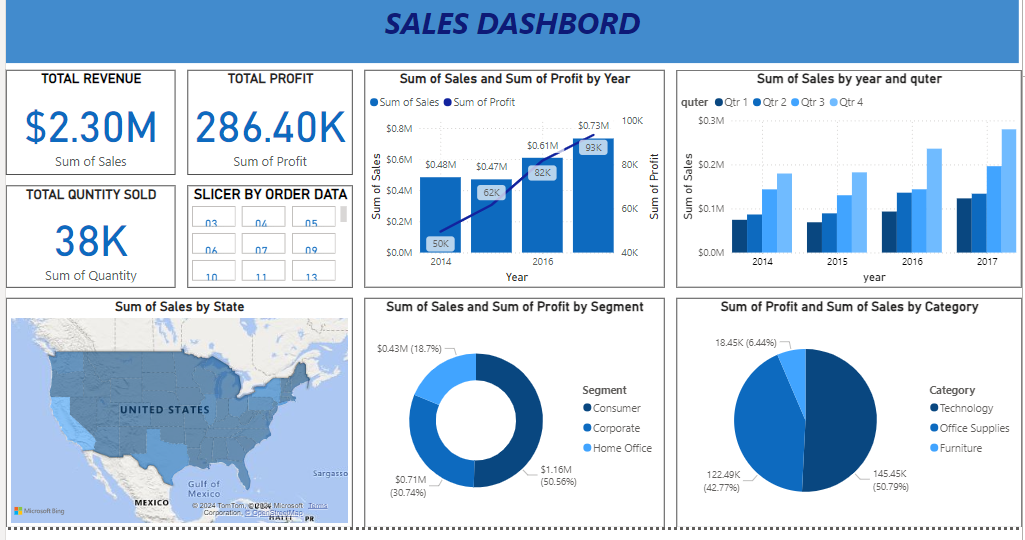

This screenshot's page, from the dashboard's own definition file:
{"tool":"powerbi","page":{"name":"Page 1","canvas":[1280,720],"ordinal":0},"visuals":[{"type":"card","title":"TOTAL REVENUE","fields":{"Values":["Sum(Orders.Sales)"]},"box":[0,143.6,213.5,132.3],"z":0},{"type":"card","title":"TOTAL QUNTITY SOLD","fields":{"Values":["Sum(Orders.Quantity)"]},"box":[0,289.1,213.5,128.5],"z":1000},{"type":"card","title":"TOTAL PROFIT","fields":{"Values":["Sum(Orders.Profit)"]},"box":[228.7,143.6,207.9,132.3],"z":2000},{"type":"advancedSlicerVisual","title":"SLICER BY ORDER DATA","fields":{"Values":["Orders.Order Date"]},"box":[228.7,289.1,207.9,128.5],"z":3000},{"type":"lineStackedColumnComboChart","fields":{"Category":["Orders.Order Date.Variation.Date Hierarchy.Year","Orders.Order Date.Variation.Date Hierarchy.Quarter","Orders.Order Date.Variation.Date Hierarchy.Month","Orders.Order Date.Variation.Date Hierarchy.Day"],"Y":["Sum(Orders.Sales)"],"Y2":["Sum(Orders.Profit)"]},"box":[451.7,143.6,378,274],"z":4000},{"type":"clusteredColumnChart","fields":{"Category":["Orders.year"],"Series":["Orders.quter"],"Y":["Sum(Orders.Sales)"]},"box":[844.7,143.6,434.6,274],"z":5000},{"type":"filledMap","fields":{"Category":["Orders.State"]},"box":[0,430.9,436.5,289.1],"z":6000},{"type":"donutChart","fields":{"Category":["Orders.Segment"],"Y":["Sum(Orders.Sales)"]},"box":[451.7,430.9,378,289.1],"z":7000},{"type":"pieChart","fields":{"Category":["Orders.Category"],"Y":["Sum(Orders.Profit)"]},"box":[845,431,435,289],"z":8000},{"type":"textbox","box":[0,52.9,1276,82],"z":9000}]}

Visuals, with their boxes in screenshot pixels (x1, y1, x2, y2):
"TOTAL REVENUE" card: 3 77 172 182
"TOTAL QUNTITY SOLD" card: 3 192 172 294
"TOTAL PROFIT" card: 184 77 349 182
"SLICER BY ORDER DATA" advancedSlicerVisual: 184 192 349 294
lineStackedColumnComboChart - Orders.Order Date.Variation.Date Hierarchy.Year x Orders.Order Date.Variation.Date Hierarchy.Quarter: 361 77 661 294
clusteredColumnChart - Orders.year x Orders.quter: 673 77 1018 294
filledMap - Orders.State: 3 305 349 534
donutChart - Orders.Segment x Sum(Orders.Sales): 361 305 661 534
pieChart - Orders.Category x Sum(Orders.Profit): 673 305 1019 534
textbox: 3 5 1016 70
